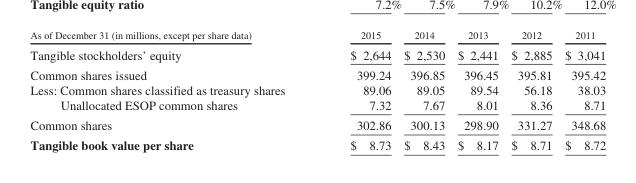table: (29, 29, 605, 152)
table column: (29, 29, 317, 152), (317, 29, 396, 152), (396, 29, 450, 152), (450, 29, 504, 152), (504, 29, 557, 152), (557, 29, 605, 152)
table column header: (29, 29, 605, 43)
table row: (29, 43, 605, 64), (29, 114, 605, 134), (29, 64, 605, 82), (29, 134, 605, 152), (29, 97, 605, 114), (29, 82, 605, 97), (29, 29, 605, 43)
